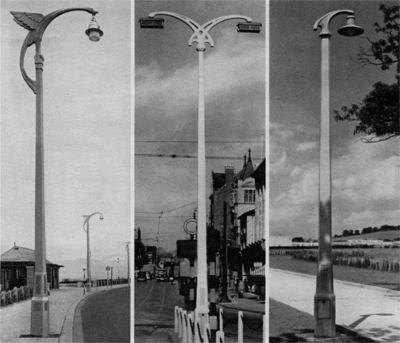light_pole: (24, 9, 55, 342), (311, 8, 341, 343), (187, 19, 213, 334)
